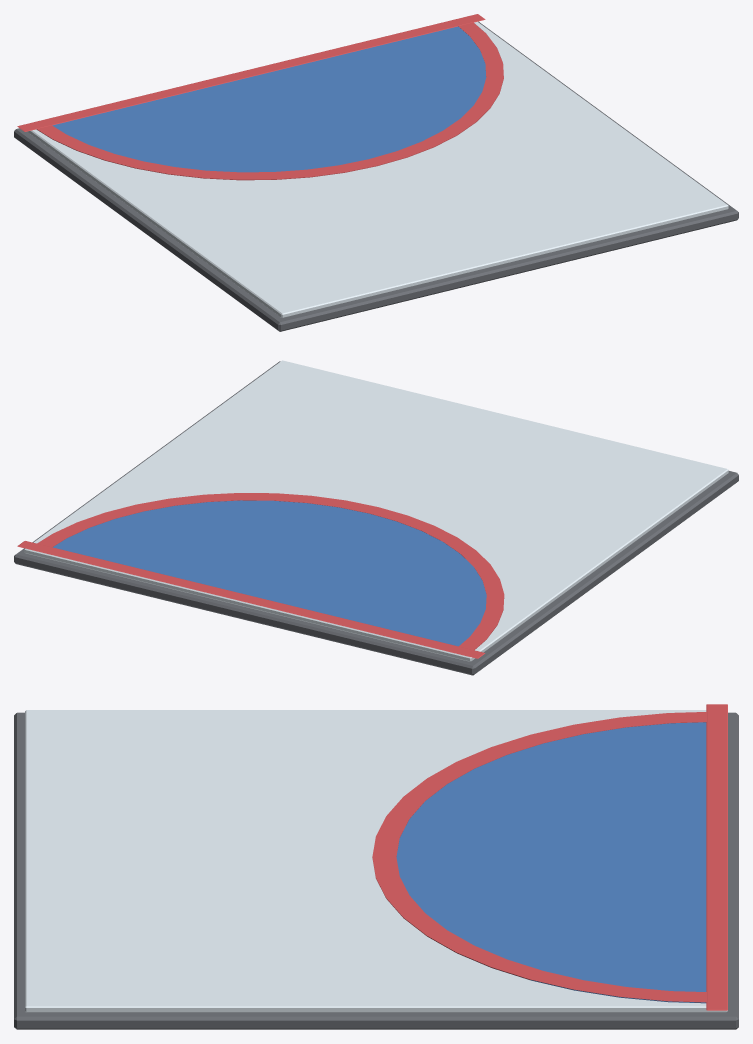
Rendered from ice-hockey-arena-and-locker-room-goal-crease-section-a1a1fbf3__33695.glb.
3 views of the same model, one above another, from view 1: azimuth 30°, elevation 25°; view 2: azimuth 150°, elevation 25°; view 3: azimuth 270°, elevation 25° (orthographic). The views are drawn at different scales.
Parts seen in each view (by area): view 1: goal-crease-section; view 2: goal-crease-section; view 3: goal-crease-section.
Part boxes in pixels (x1,y1,x2,y2): goal-crease-section: [14, 14, 738, 331]; goal-crease-section: [14, 360, 738, 675]; goal-crease-section: [14, 704, 738, 1029].
Bounding box in the file's own units: 2 × 0.0633 × 2.
